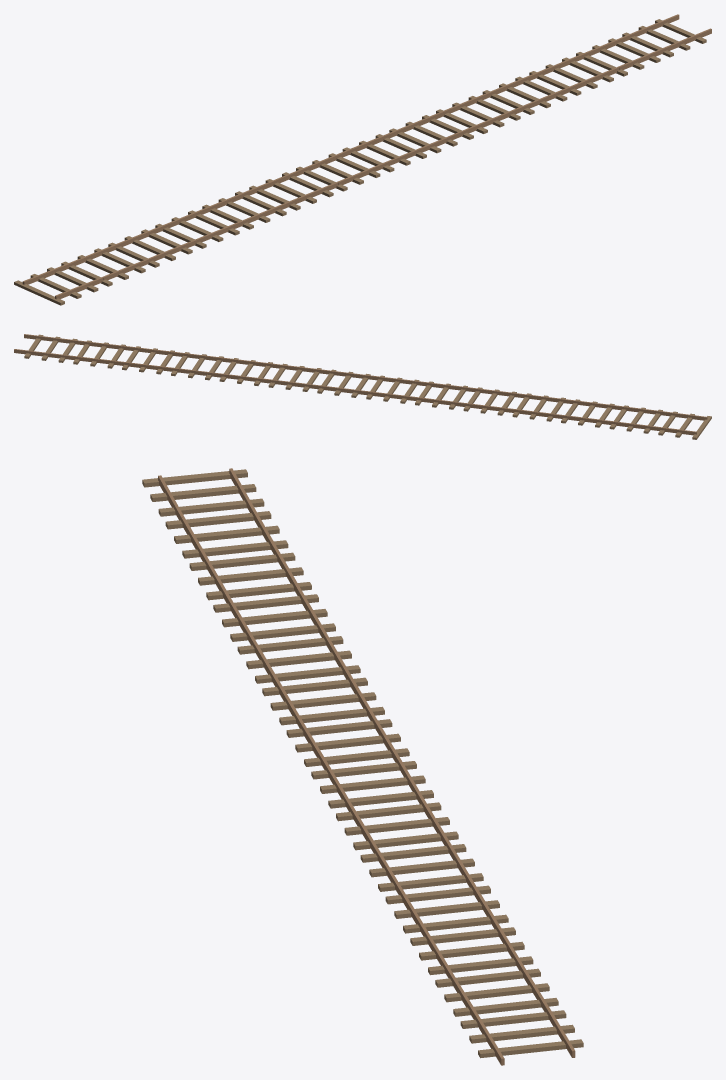
Rendered from street_6_-1.glb.
3 views of the same model, one above another, from view 1: azimuth 30°, elevation 25°; view 2: azimuth 150°, elevation 25°; view 3: azimuth 270°, elevation 25° (orthographic). The views are drawn at different scales.
Parts seen in each view (by area): view 1: wood.073, rust.073; view 2: rust.073, wood.073; view 3: wood.073, rust.073.
Part boxes in pixels (x1,y1,x2,y2): wood.073: (14,19,706,305); rust.073: (22,14,711,299); rust.073: (14,334,707,435); wood.073: (24,334,711,439); wood.073: (142,469,583,1058); rust.073: (158,468,575,1065).
Size of the model in its own units: 27.68 by 0.185 by 8.7.
